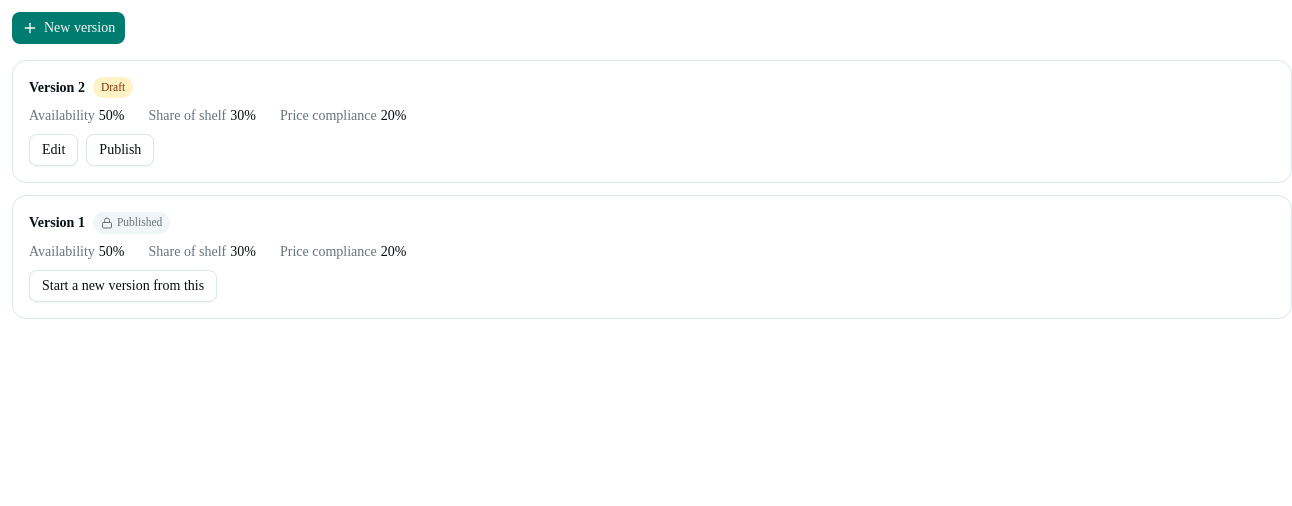
it: <ScoreWeights> › refuses to save a draft that does not add up to exactly 100
Click the button "New version" at (69, 28), box [12,12,125,44]
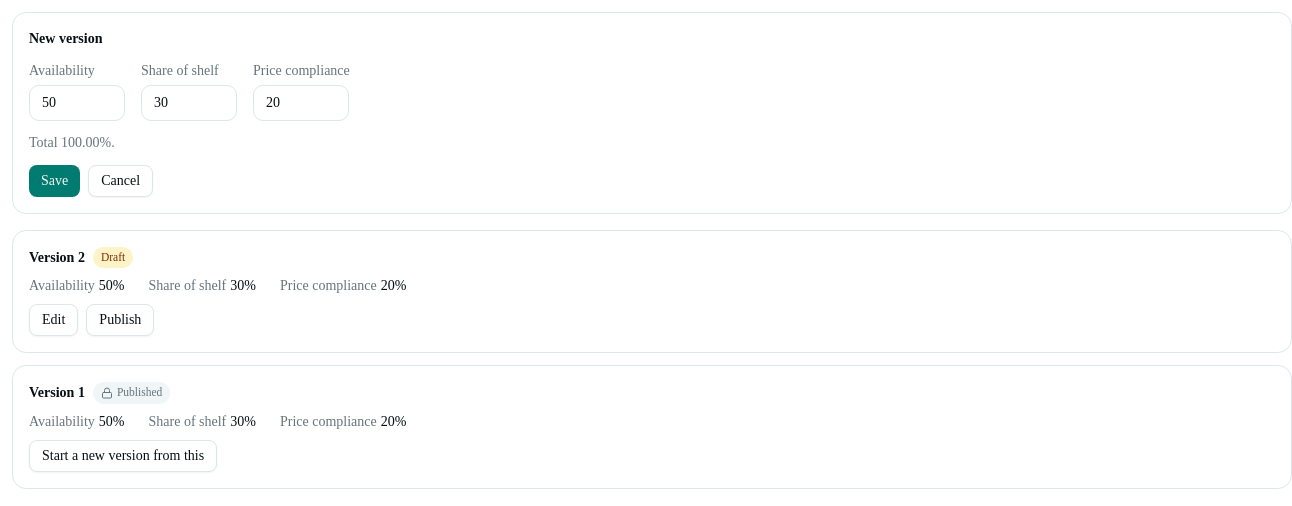
Replace the text in the number field labelled "Availability" with "60" at (77, 103), box [29,85,125,121]
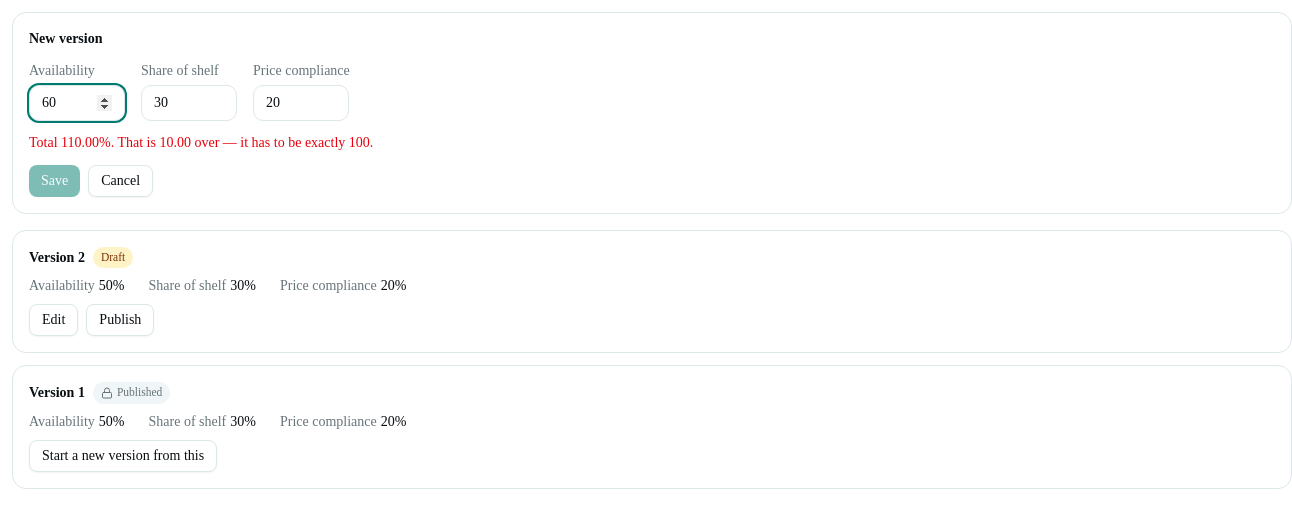
Expected: the button "Save" is disabled, [29,165,80,197]
Expected: the text "Total 110.00%" is shown, [29,135,114,150]
Expected: the text "That is 10.00 over — it has to be exactly 100." is shown, [114,135,373,150]
